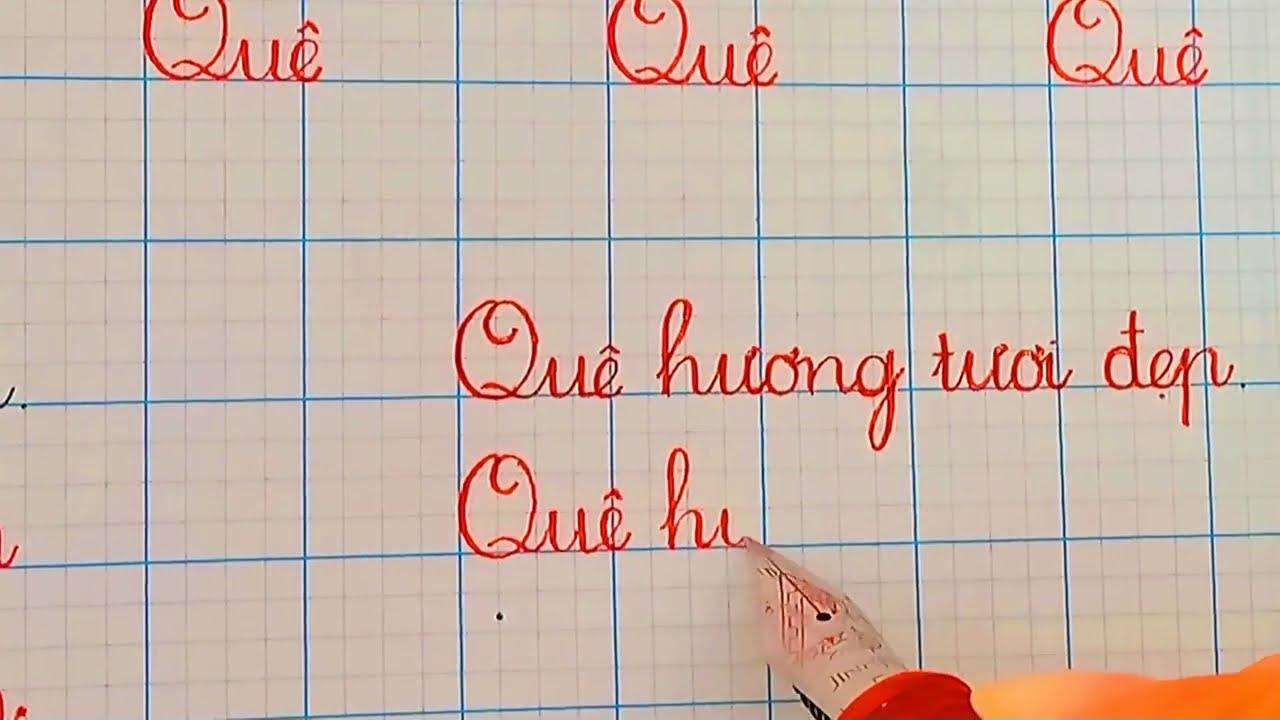text: (449, 292, 1237, 458), (455, 444, 748, 562), (606, 0, 782, 93), (140, 0, 327, 87), (1043, 0, 1211, 88)
